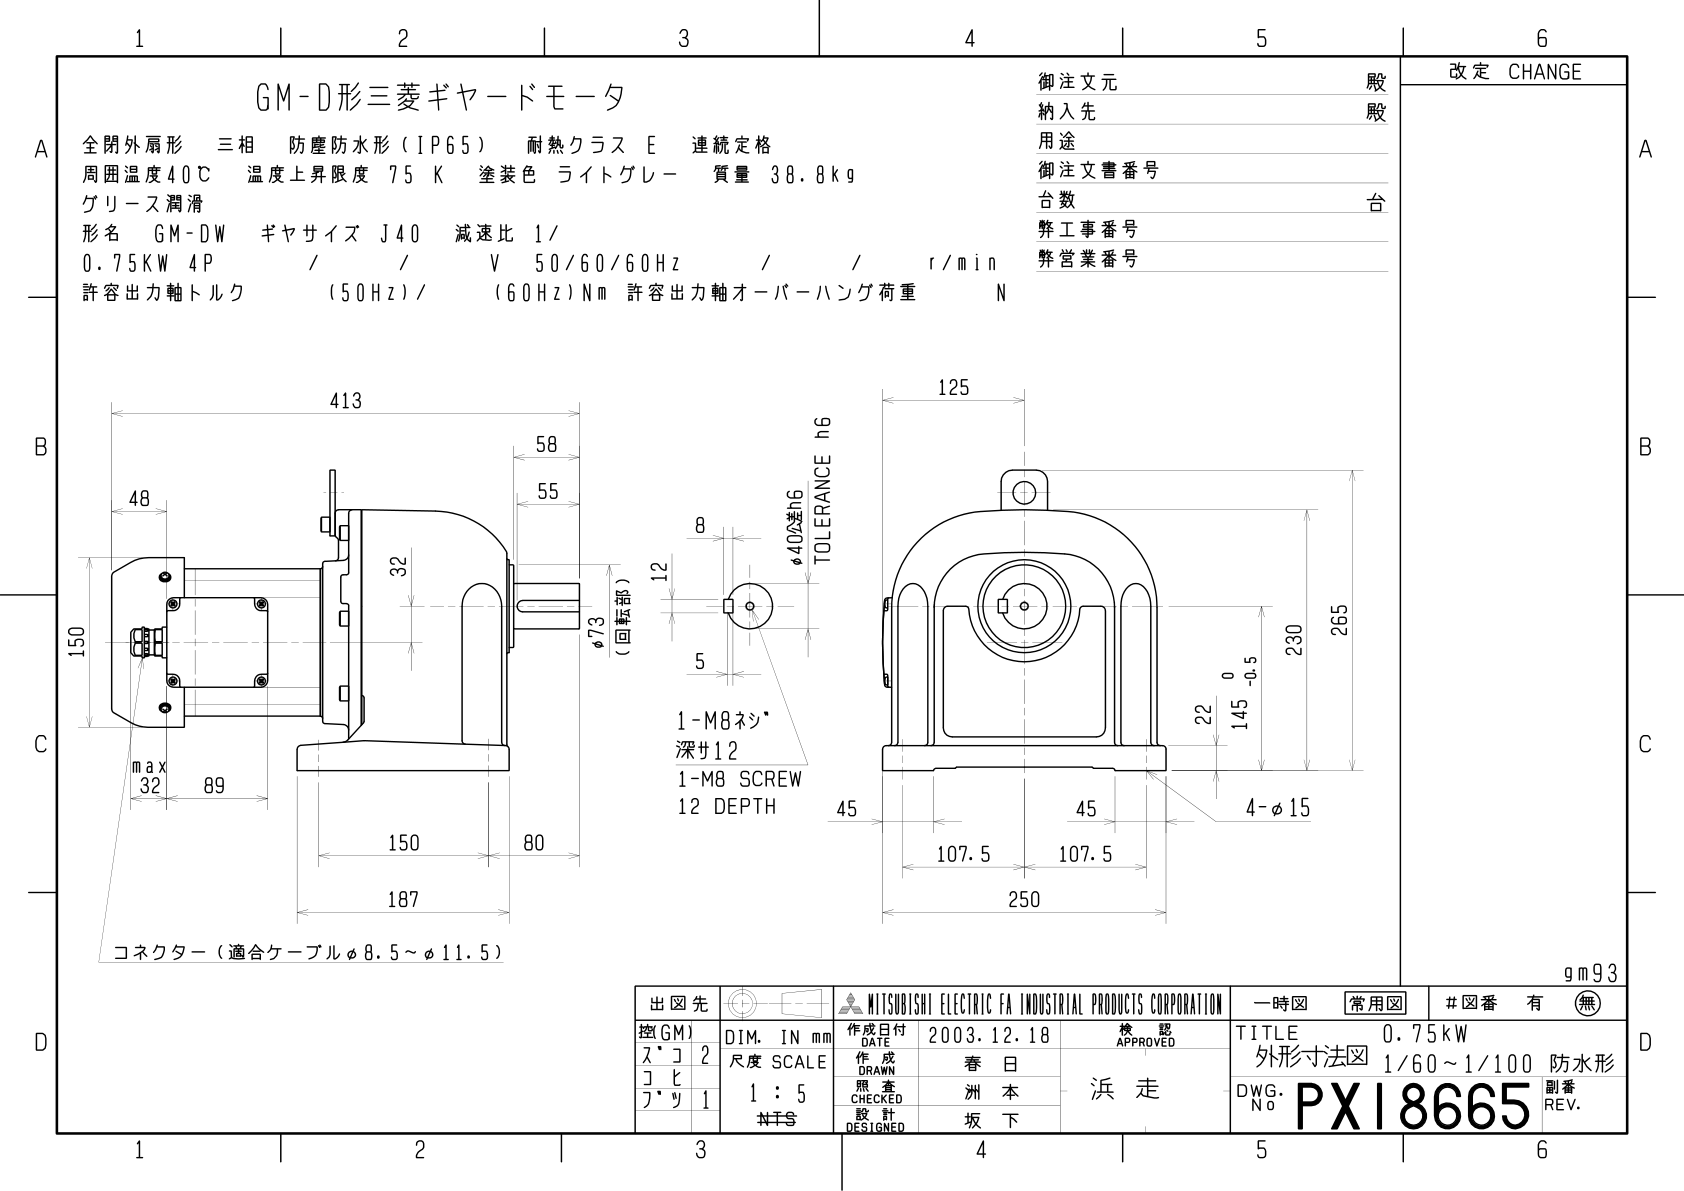GM_D_IP65_三相_脚: (1, 1, 1678, 1182)
